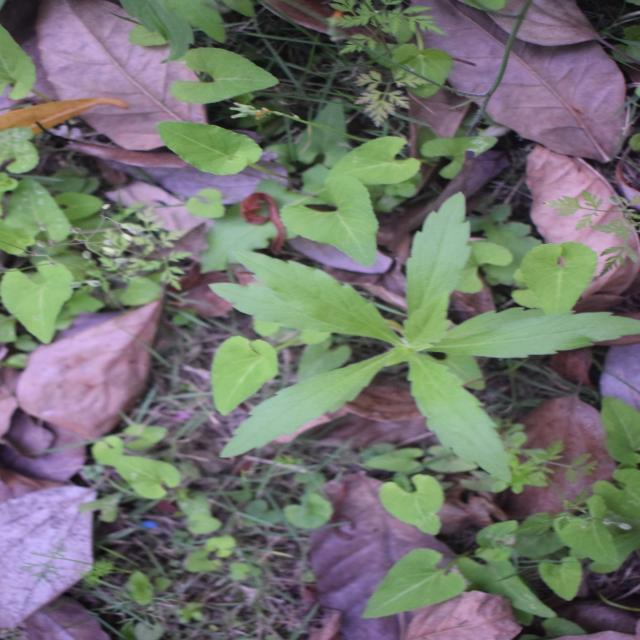horseweed: (154, 216, 421, 585)
